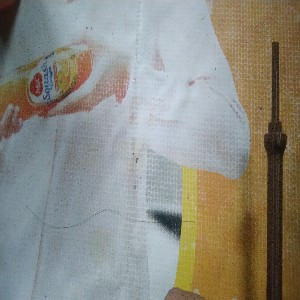obeng: (263, 40, 288, 300)
